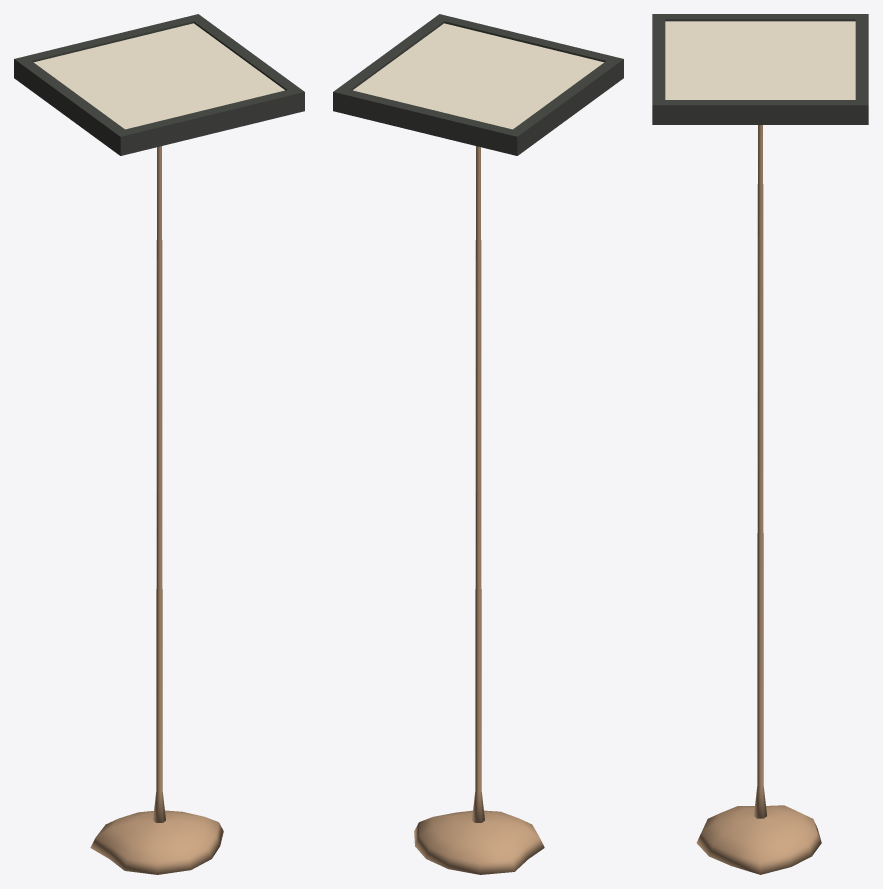
Rendered from sand_fall.glb.
3 views of the same model, side by side, from view 1: azimuth 30°, elevation 25°; view 2: azimuth 150°, elevation 25°; view 3: azimuth 270°, elevation 25° (orthographic).
Parts seen in each view (by area): view 1: sand_fall; view 2: sand_fall; view 3: sand_fall.
Boxes of the visible parts, bbox=[...] form: sand_fall: bbox=[14, 14, 304, 874]; sand_fall: bbox=[333, 14, 623, 874]; sand_fall: bbox=[652, 14, 868, 874].
Size of the model in its own units: 2 by 8 by 2.
